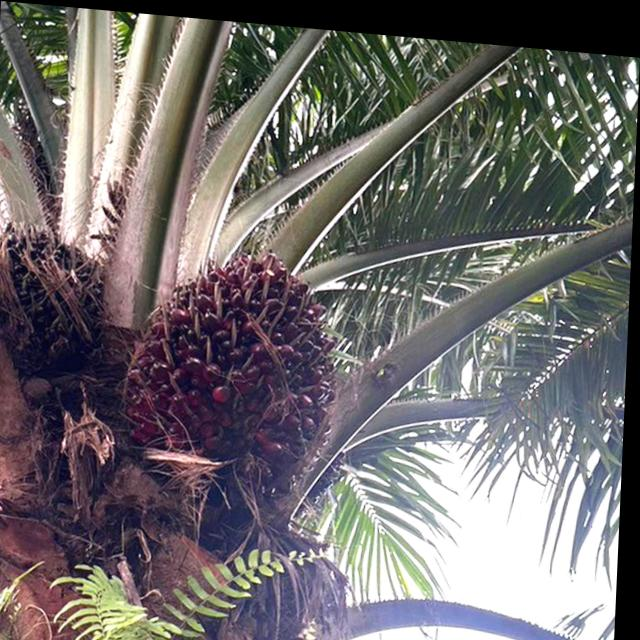ripe: (104, 215, 372, 520)
